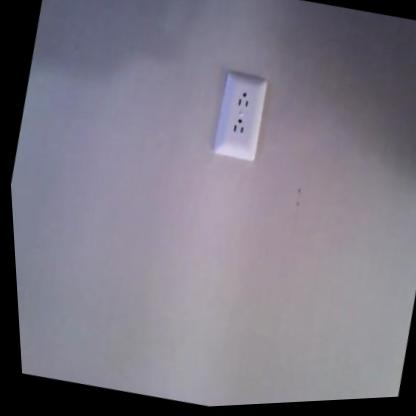OUTLET: (208, 68, 275, 165)
